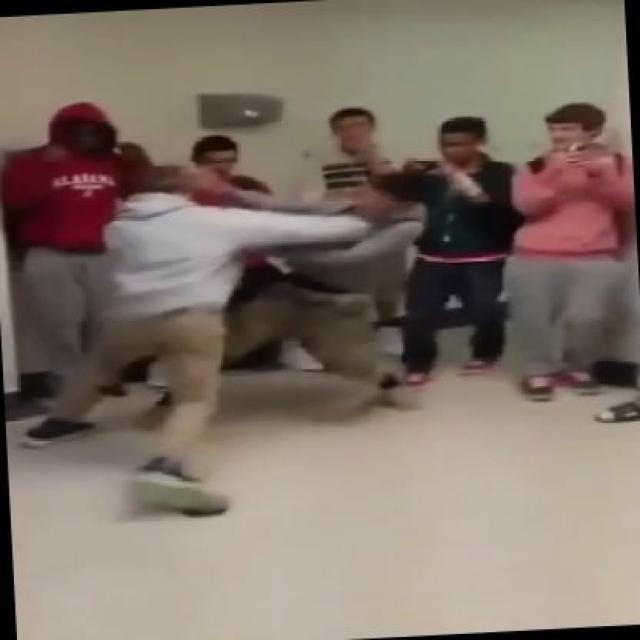fight: (40, 121, 440, 530)
non-fight: (0, 84, 183, 442), (488, 91, 638, 420), (362, 100, 524, 392)
